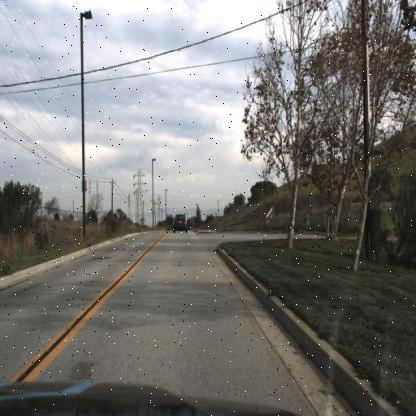car: (173, 210, 189, 237)
